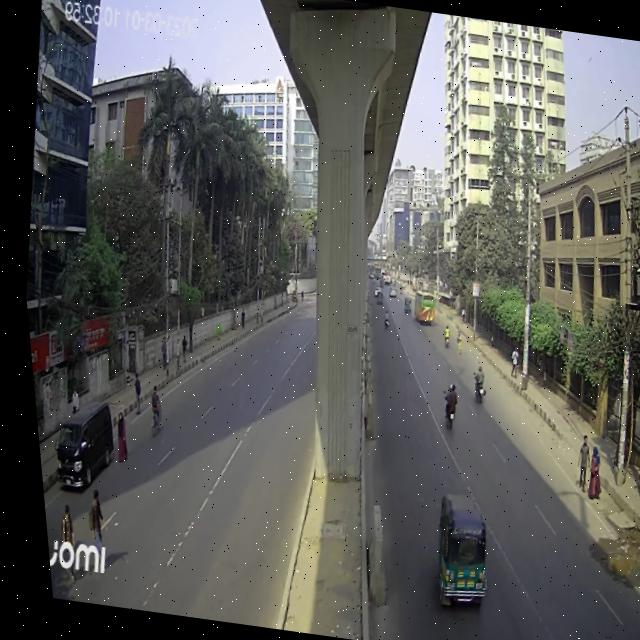cng: (409, 475, 495, 609), (394, 293, 409, 316), (367, 284, 381, 308)
